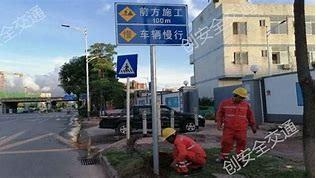sign: (114, 3, 189, 45)
